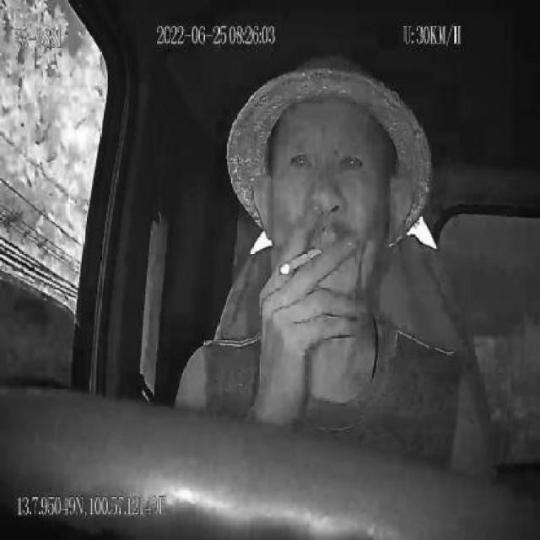smoking: (280, 245, 323, 276)
